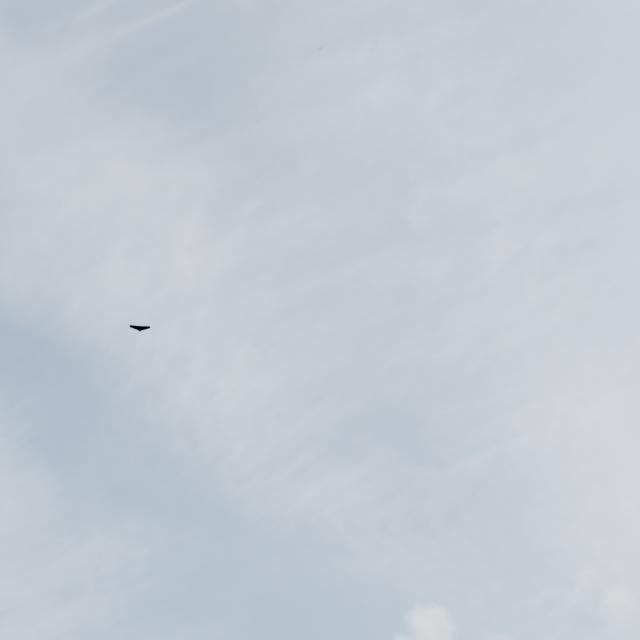Airaplan: (129, 324, 150, 332)
